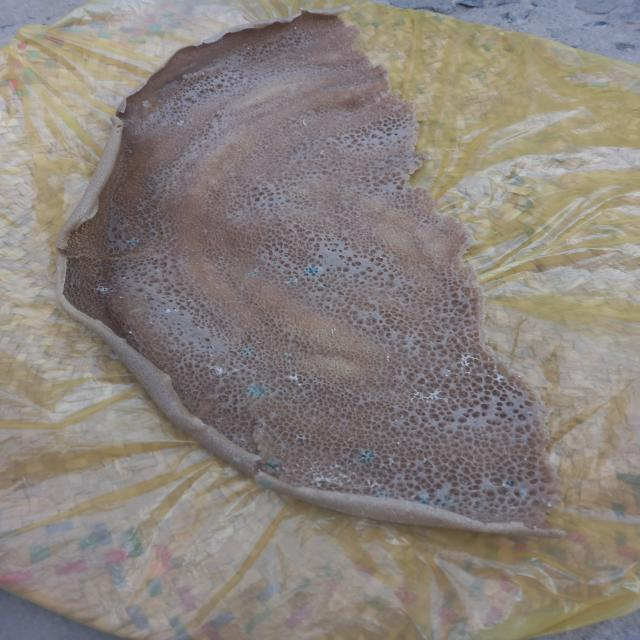injera_mold: (503, 476, 528, 501), (313, 474, 352, 489), (409, 494, 444, 508), (457, 353, 480, 372), (204, 363, 231, 379), (413, 390, 441, 404), (254, 473, 277, 489), (246, 383, 268, 398), (304, 264, 324, 278), (262, 457, 282, 471), (372, 489, 396, 499), (92, 284, 111, 296), (284, 371, 301, 384), (356, 450, 373, 462), (125, 235, 140, 248), (249, 267, 264, 280), (292, 432, 308, 444), (492, 374, 508, 385), (283, 276, 300, 286), (174, 118, 189, 128), (230, 455, 244, 465), (242, 346, 256, 355), (283, 350, 296, 358)
